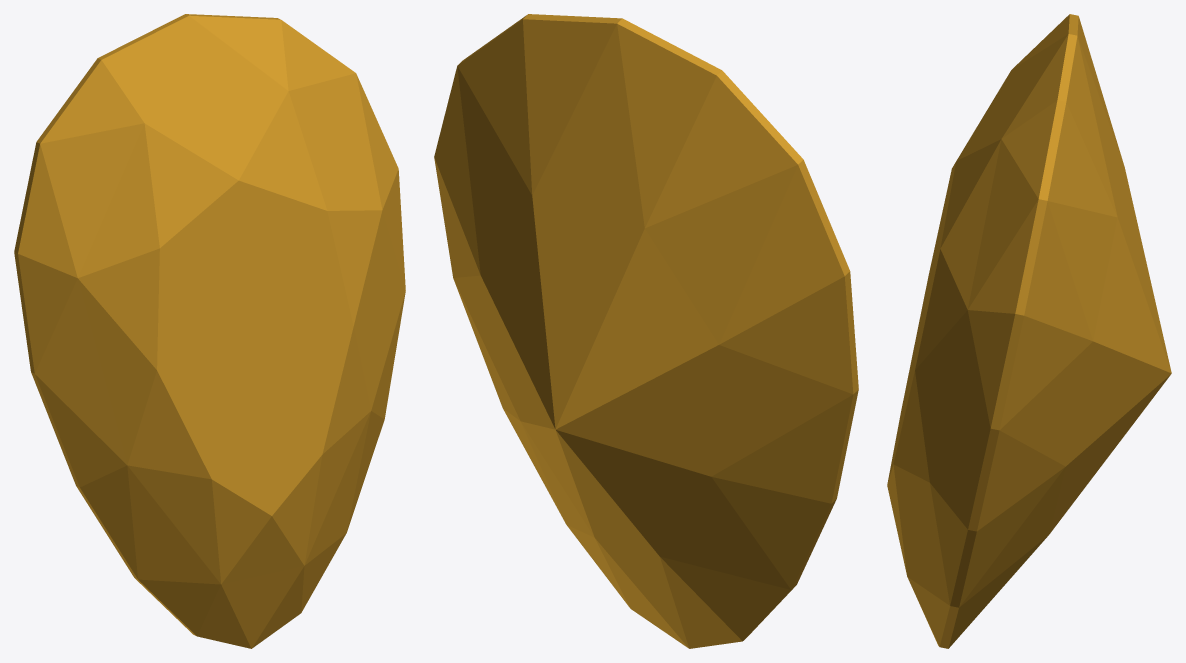
File: citrine.glb
3 renders of one model, left to right at view 1: azimuth 30°, elevation 25°; view 2: azimuth 150°, elevation 25°; view 3: azimuth 270°, elevation 25°, orthographic. The views are drawn at different scales.
Parts seen in each view (by area): view 1: citrine; view 2: citrine; view 3: citrine.
Part boxes in pixels (bbox=[...]): citrine: bbox=[14, 14, 405, 648]; citrine: bbox=[434, 14, 858, 648]; citrine: bbox=[887, 14, 1171, 648].
Size of the model in its own units: 1.52 by 2.32 by 0.9771.
